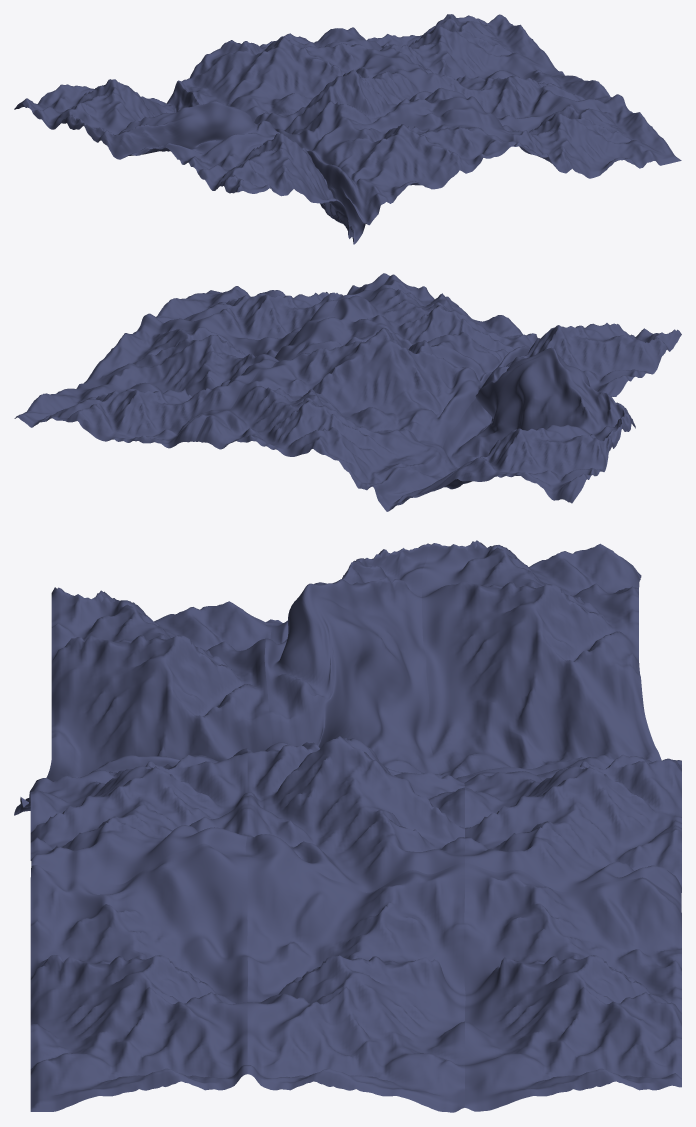
File: Terrain_big.glb
3 renders of one model, top to bottom at view 1: azimuth 30°, elevation 25°; view 2: azimuth 150°, elevation 25°; view 3: azimuth 270°, elevation 25°, orthographic. The views are drawn at different scales.
Parts seen in each view (by area): view 1: big_terrain.003; view 2: big_terrain.003; view 3: big_terrain.003.
Part boxes in pixels (x1,y1,x2,y2): big_terrain.003: (14, 14, 681, 244); big_terrain.003: (14, 273, 681, 511); big_terrain.003: (14, 540, 681, 1112).
Bounding box in the file's own units: 60.96 × 11.53 × 38.55.
